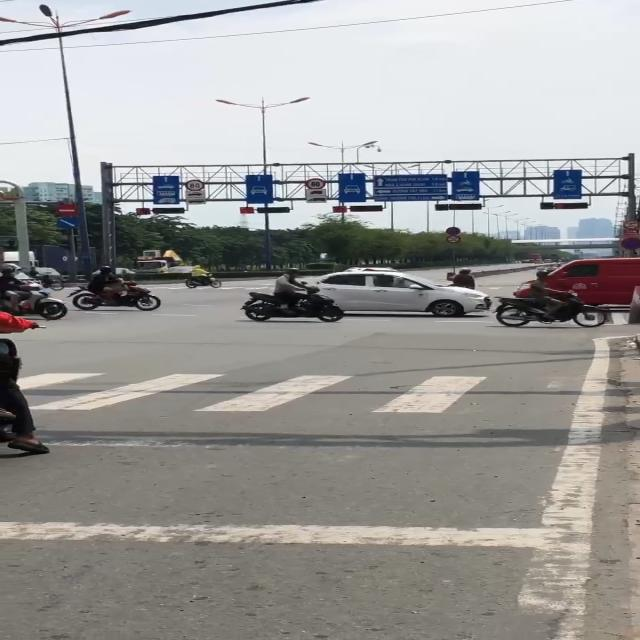Bien bao cam di nguoc chieu: (56, 203, 78, 216)
Bien bao huong phai di vong chuong ngai vat: (55, 217, 82, 231)
Bien bao toc do toi da cho phep: (184, 178, 207, 192), (303, 178, 328, 190)
